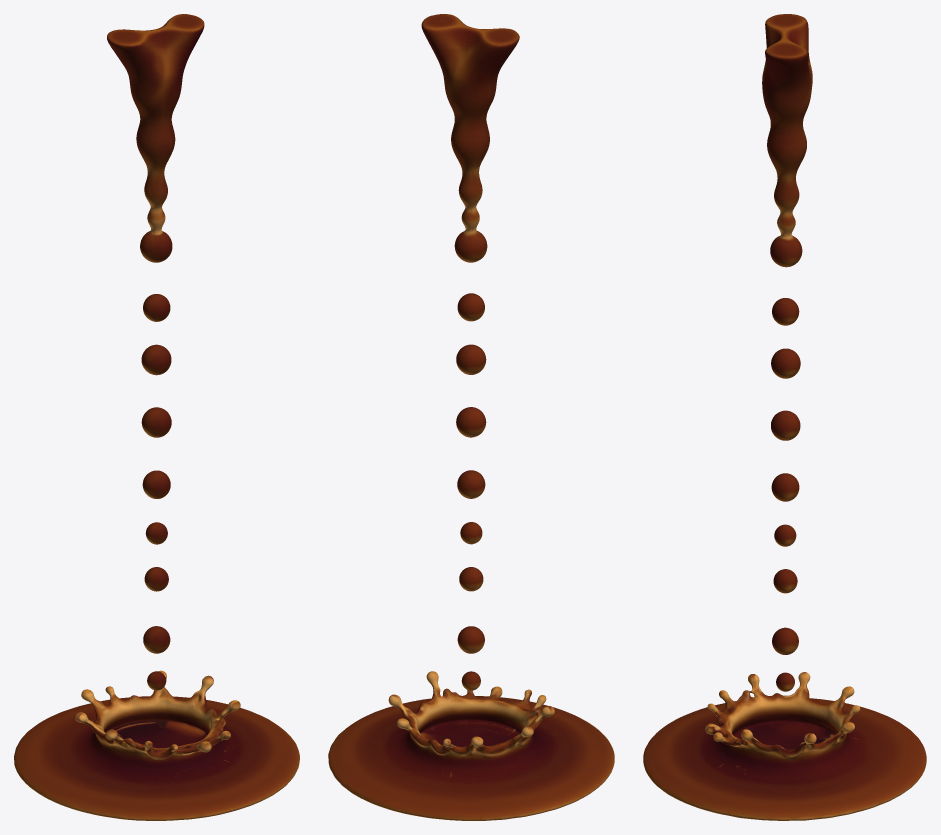
Rendered from coffee-pour.glb.
3 renders of one model, left to right at view 1: azimuth 30°, elevation 25°; view 2: azimuth 150°, elevation 25°; view 3: azimuth 270°, elevation 25°, orthographic.
Bounding box in the file's own units: 0.6715 × 1.9 × 0.6712.
1 material, 1 textured.
